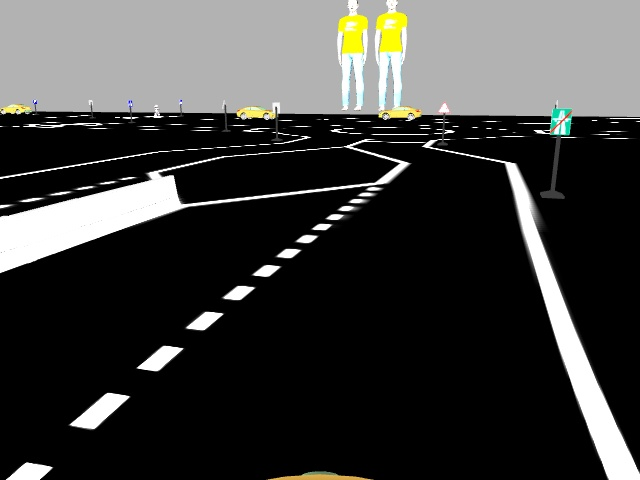HighwayExit: (549, 107, 573, 136)
